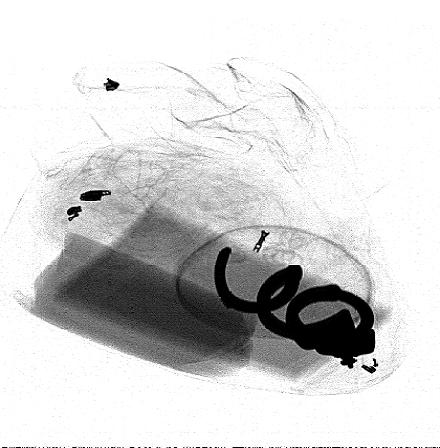HandCuffs: (214, 247, 375, 370)
